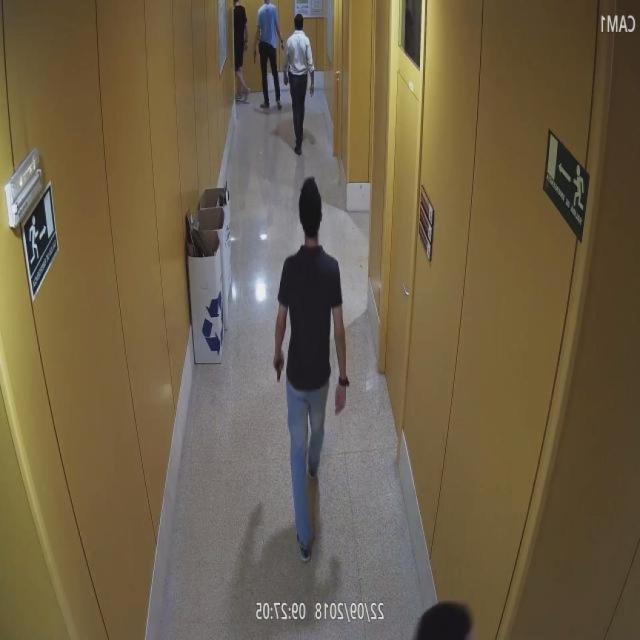pistol: (273, 346, 285, 383), (250, 48, 259, 68)
